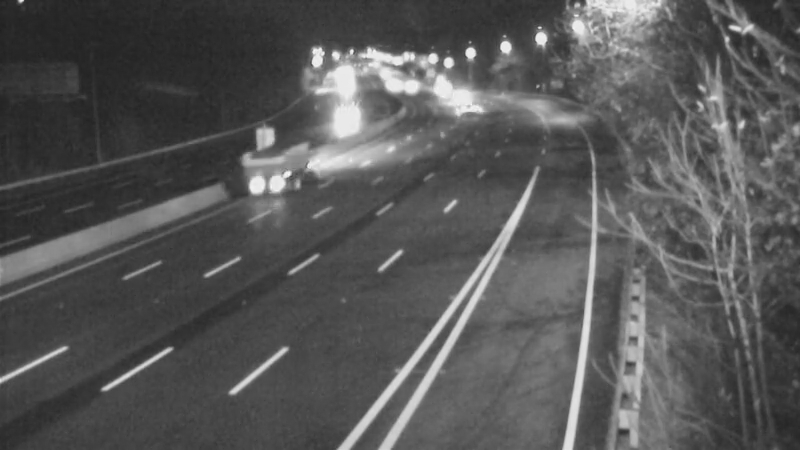vehicle: (234, 128, 314, 208), (388, 62, 438, 112), (411, 62, 461, 112), (433, 69, 483, 119), (448, 86, 498, 136), (320, 96, 370, 146)
